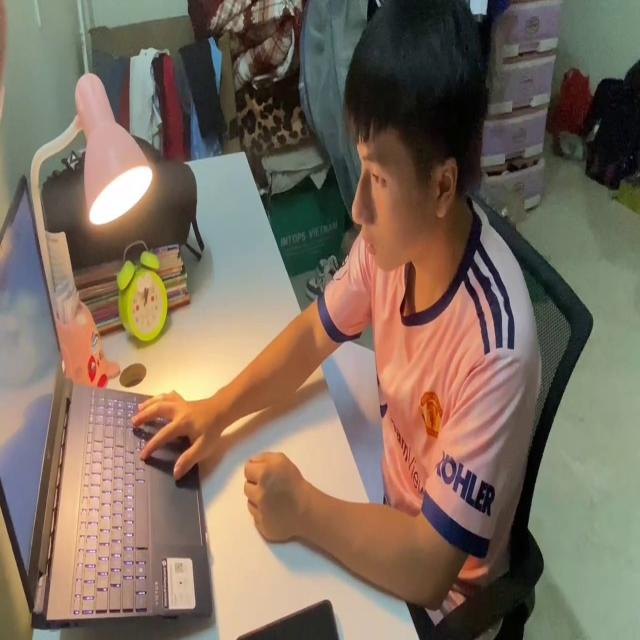book: (315, 318, 388, 532)
laptop: (2, 170, 217, 634)
phone: (237, 591, 341, 640)
student: (134, 0, 542, 617)
